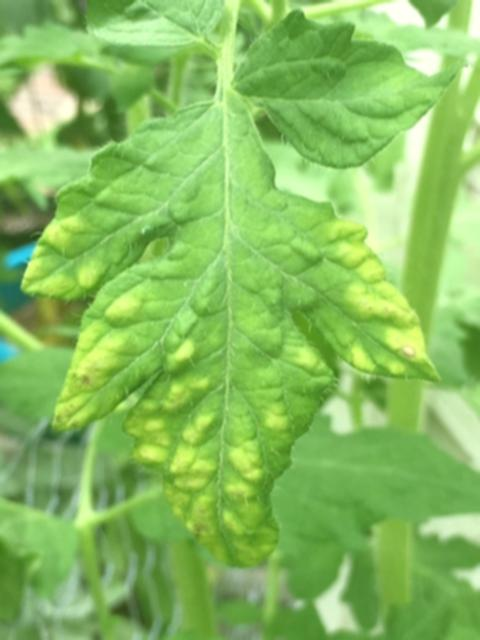Tomato leaf bacterial spot: (26, 73, 432, 594)
